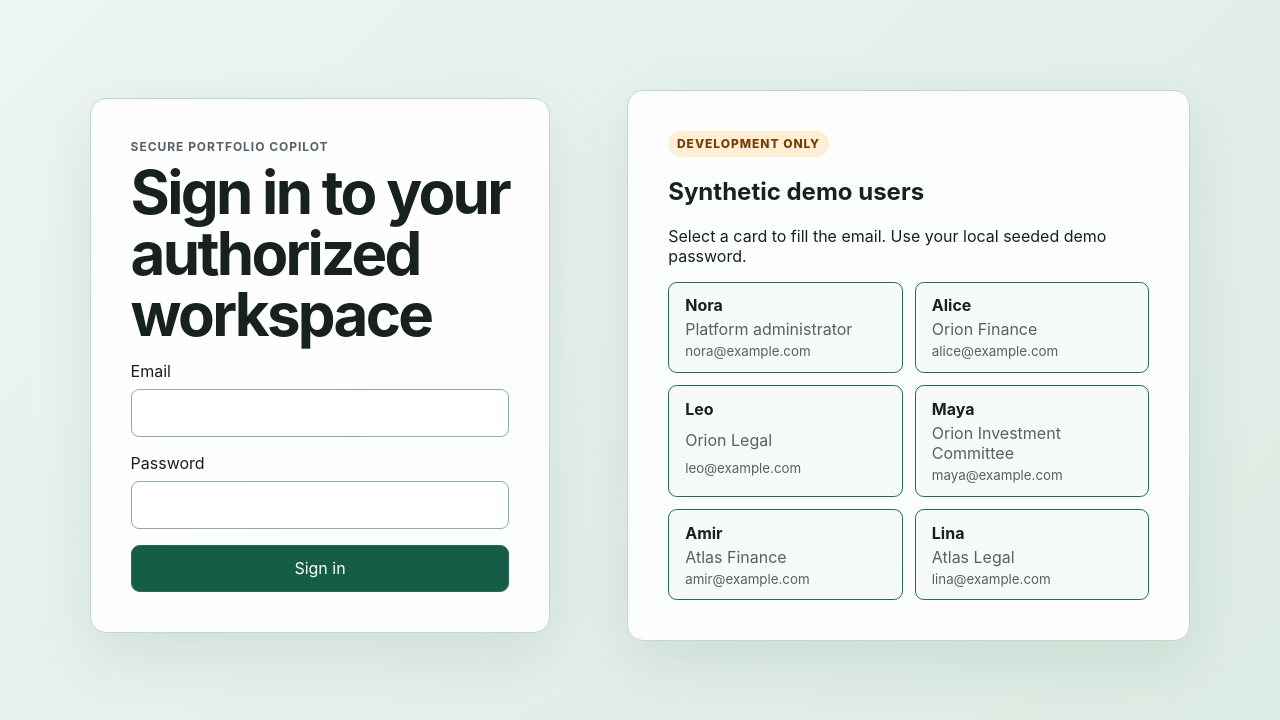
Test: LoginPage › labels demo cards as development-only and fills only the email
The image size is (1280, 720).
Click the button "Alice Orion Finance alice@example.com" at (1032, 327), box [915, 282, 1149, 373]
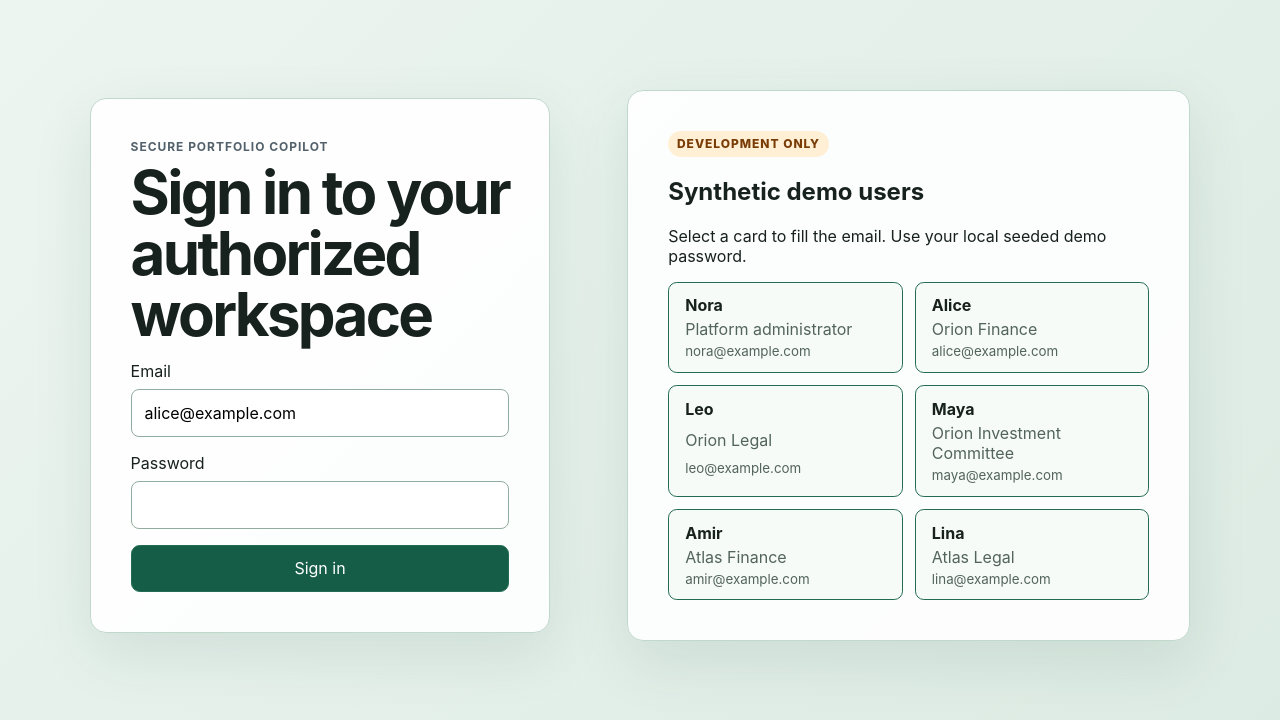
expect the password field labelled "Password" is empty: met, box [131, 481, 509, 529]
expect the field labelled "Email" holds "alice@example.com": met, box [131, 389, 509, 437]
